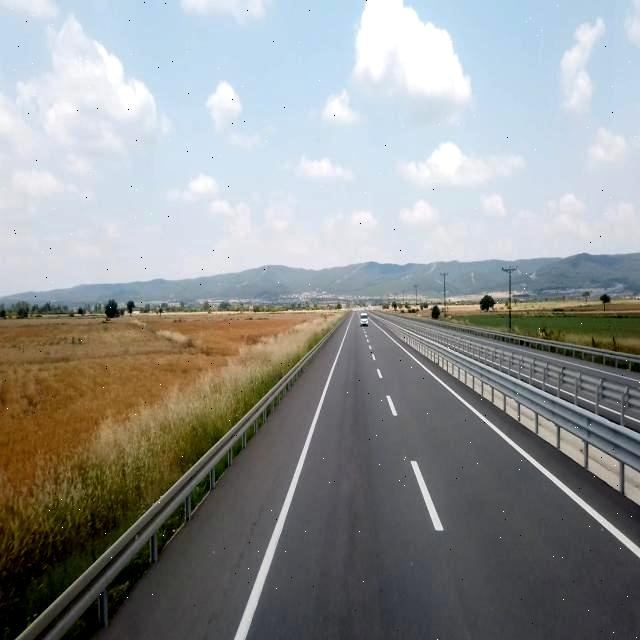lane: (380, 329, 640, 558), (234, 329, 347, 640), (410, 460, 444, 531)
road: (91, 313, 639, 639)
